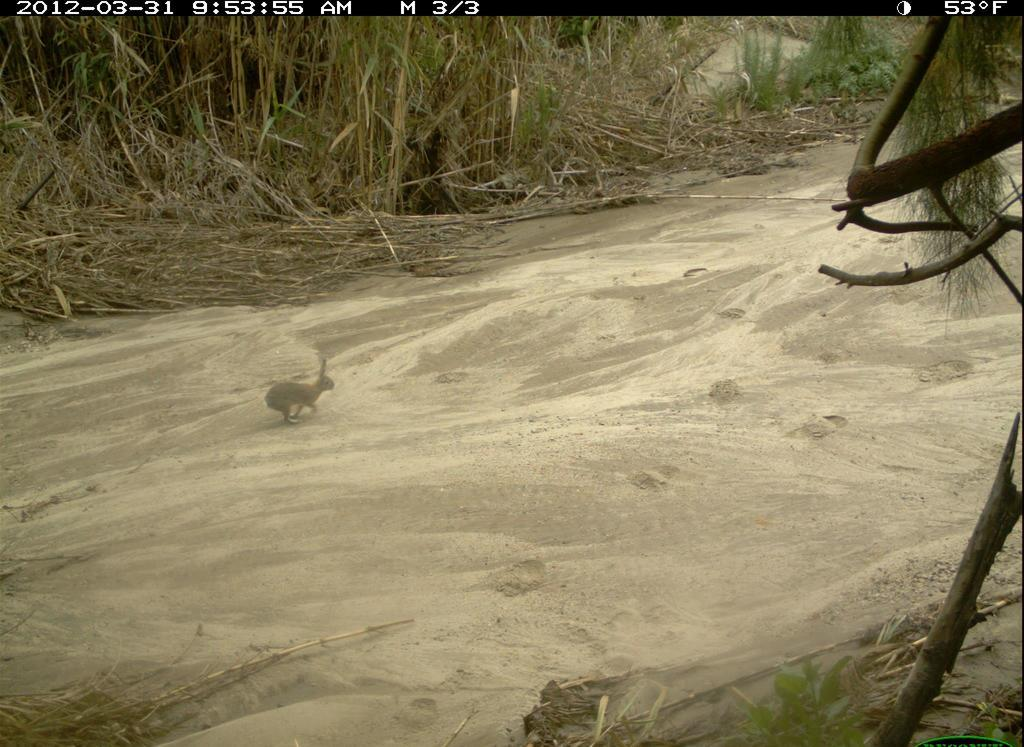rabbit: (264, 353, 341, 436)
